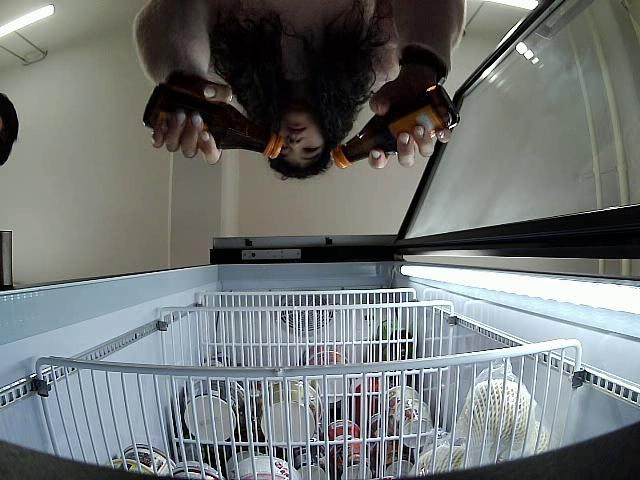17_vita500: (140, 80, 285, 160), (332, 82, 460, 169)
